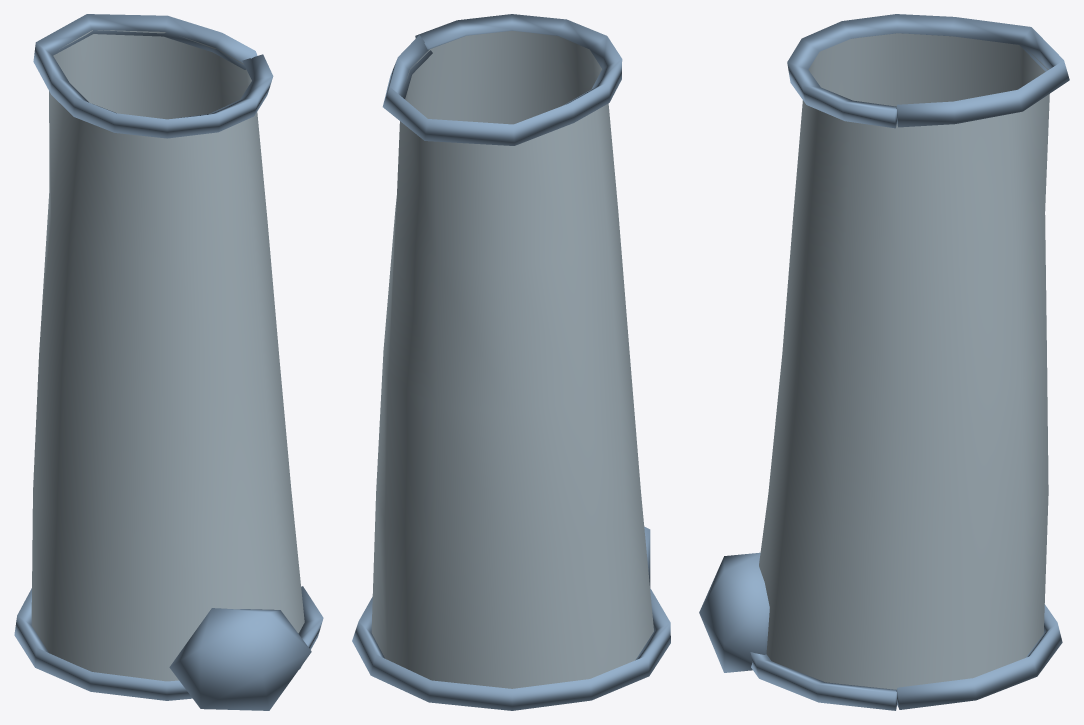
Rendered from platinum_armor_greave.R.glb.
3 renders of one model, left to right at view 1: azimuth 30°, elevation 25°; view 2: azimuth 150°, elevation 25°; view 3: azimuth 270°, elevation 25°, orthographic. The views are drawn at different scales.
Visible parts, largest first — view 1: platinum_armor_greave.R; view 2: platinum_armor_greave.R; view 3: platinum_armor_greave.R.
Boxes of the visible parts, bbox=[...] form: platinum_armor_greave.R: bbox=[14, 14, 323, 710]; platinum_armor_greave.R: bbox=[352, 14, 670, 710]; platinum_armor_greave.R: bbox=[699, 14, 1069, 710].
Bounding box in the file's own units: 0.1941 × 0.4045 × 0.2252.
